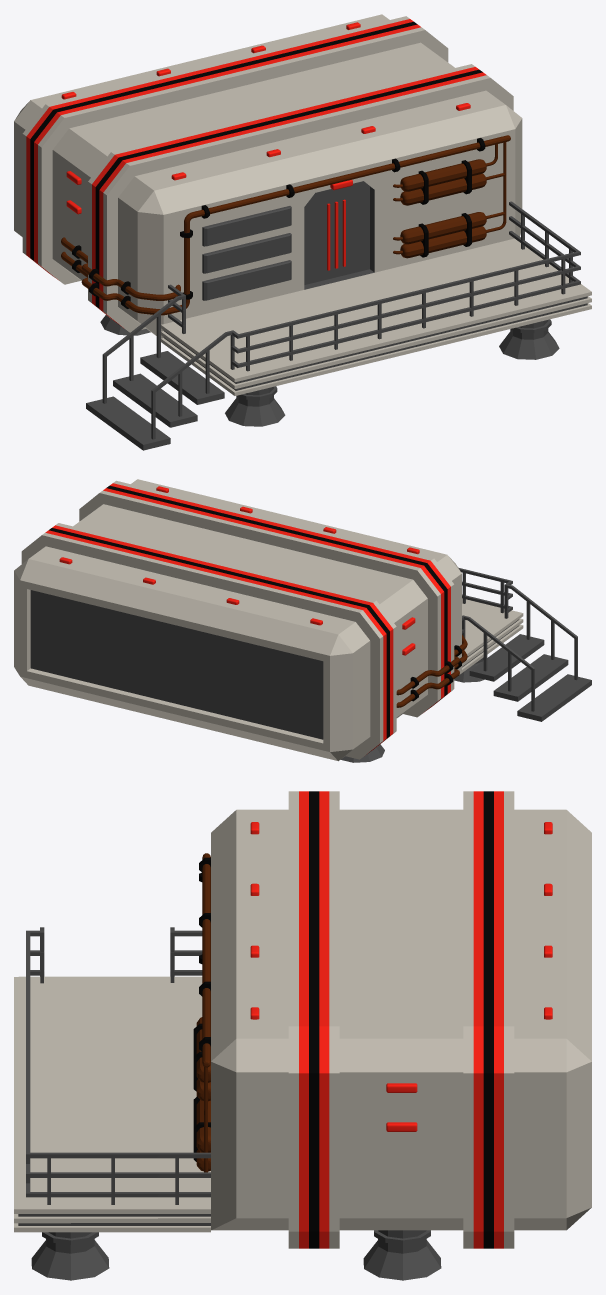
The model's file is 02 Space_Chamber.FBX.glb.
3 renders of one model, top to bottom at view 1: azimuth 30°, elevation 25°; view 2: azimuth 150°, elevation 25°; view 3: azimuth 270°, elevation 25°, orthographic. The views are drawn at different scales.
Parts seen in each view (by area): view 1: Box043.2; view 2: Box043.2; view 3: Box043.2.
Boxes of the visible parts, x1,y1,x2,y2 form: Box043.2: [14, 14, 591, 450]; Box043.2: [14, 479, 591, 762]; Box043.2: [14, 791, 591, 1280].
Bounding box in the file's own units: 8493 × 3459 × 6827.
